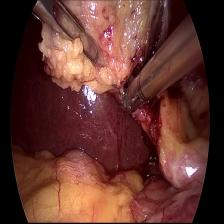Clipper: (119, 66, 147, 121)
Grasper: (30, 0, 102, 78)
